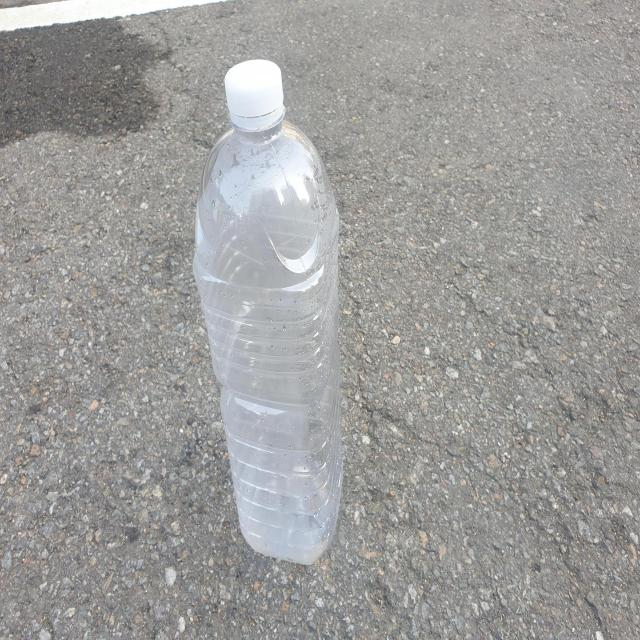plastic: (194, 59, 342, 565)
